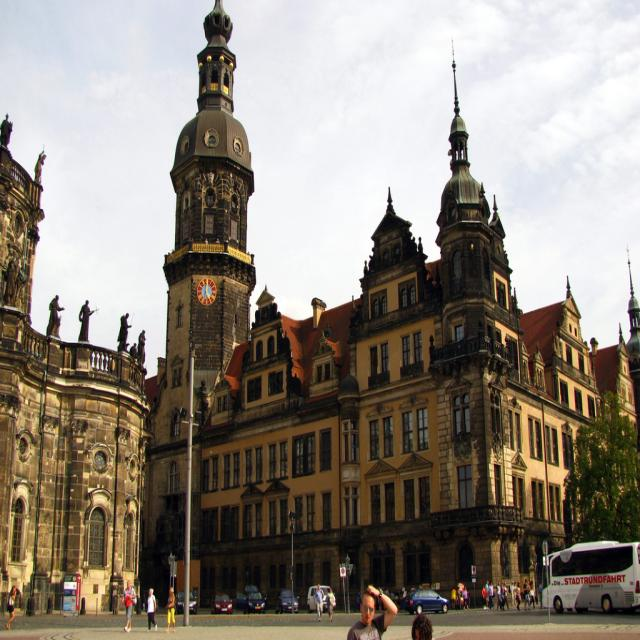car: (404, 587, 449, 614), (211, 590, 231, 616)
